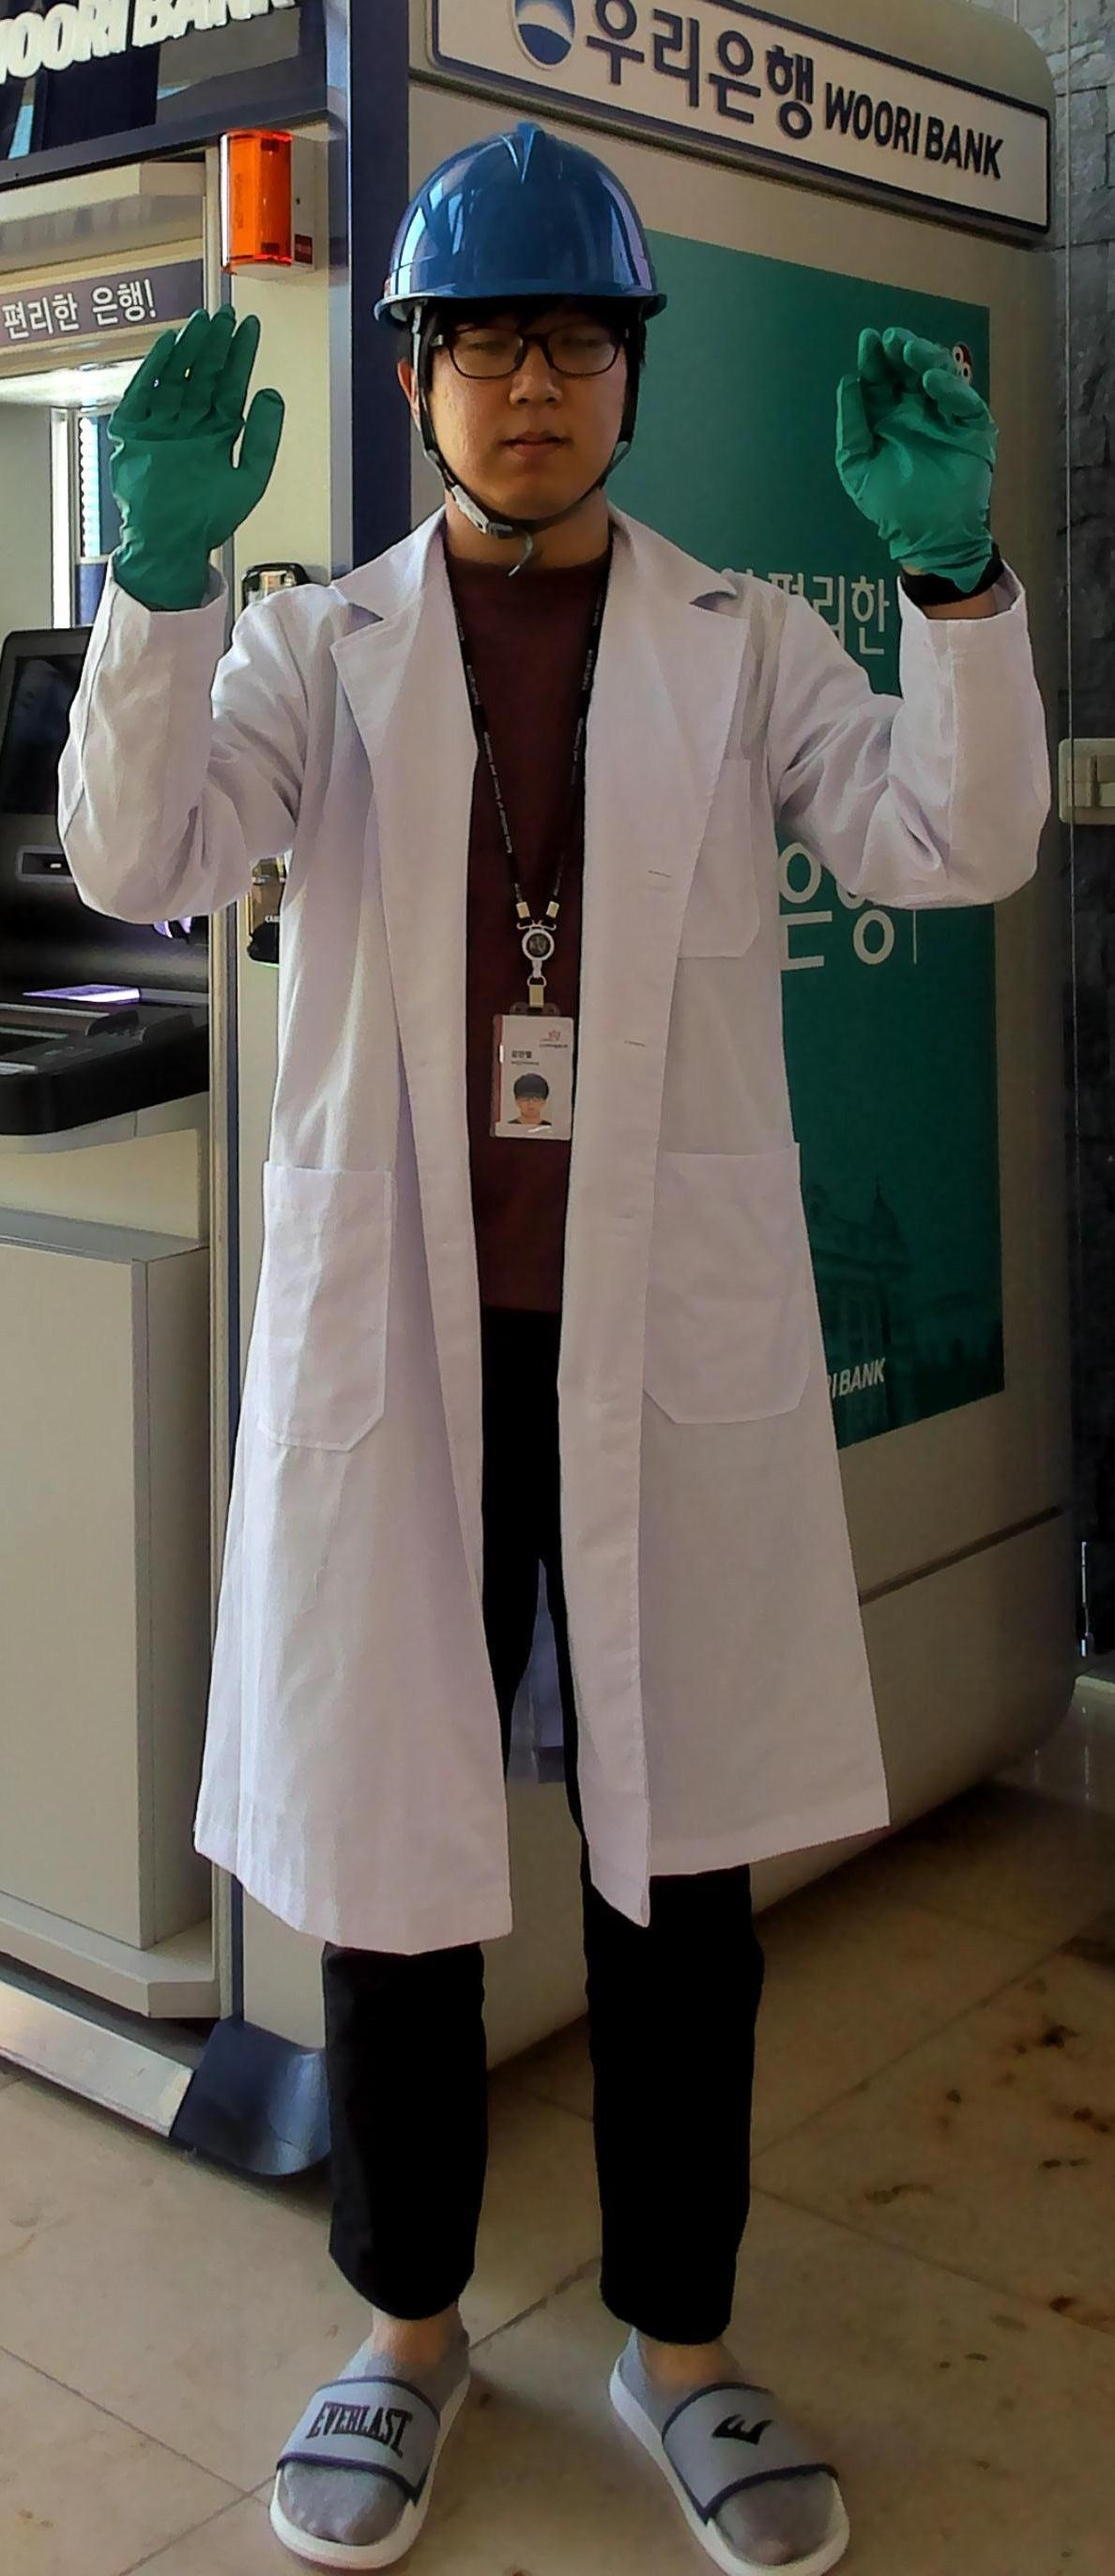lab_coat: (233, 593, 851, 1940)
